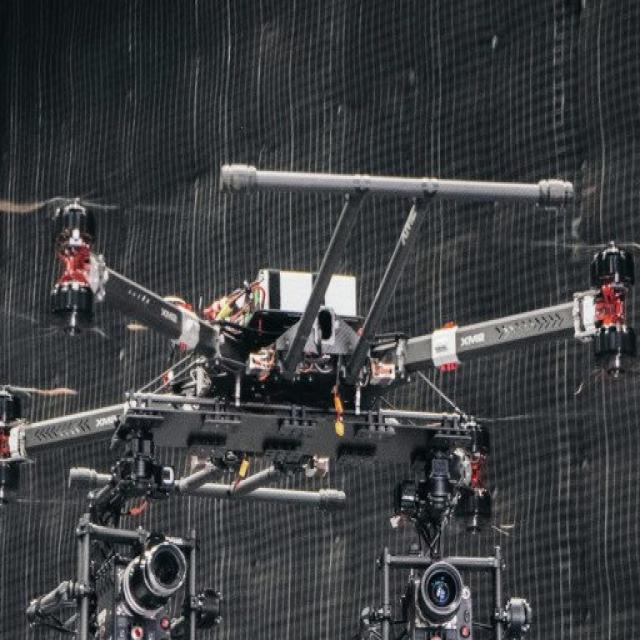drone: (0, 127, 640, 624)
